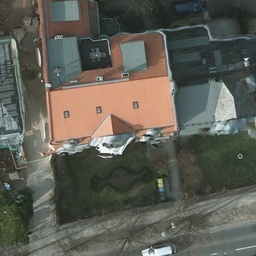car: (137, 241, 176, 255), (175, 2, 201, 10)
